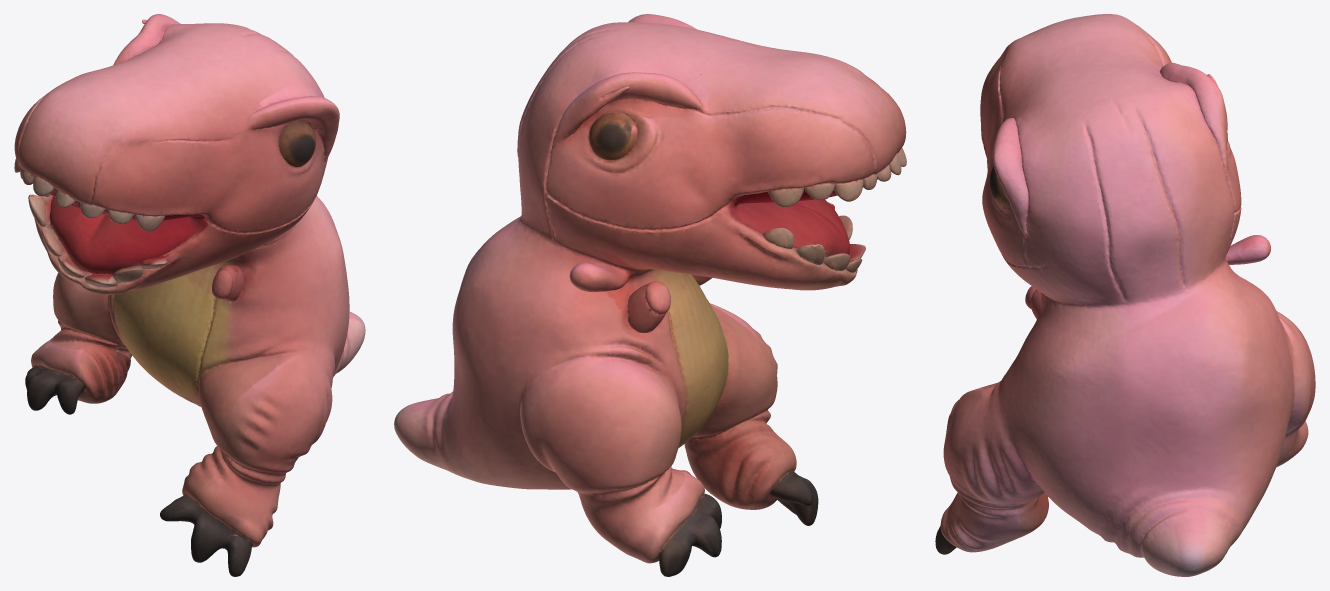
Rendered from Tina_optimized.glb.
The picture shows the model from 3 angles, left to right: view 1: azimuth 30°, elevation 25°; view 2: azimuth 150°, elevation 25°; view 3: azimuth 270°, elevation 25°; orthographic projection. The views are drawn at different scales.
Parts seen in each view (by area): view 1: tmpmcw46ej0obj; view 2: tmpmcw46ej0obj; view 3: tmpmcw46ej0obj.
Part boxes in pixels (x1=…): tmpmcw46ej0obj: x1=14, y1=14, x2=365, y2=576; tmpmcw46ej0obj: x1=394, y1=14, x2=906, y2=576; tmpmcw46ej0obj: x1=935, y1=14, x2=1315, y2=576.
Bounding box in the file's own units: 0.8664 × 1 × 0.6864.
1 material, 1 textured.
